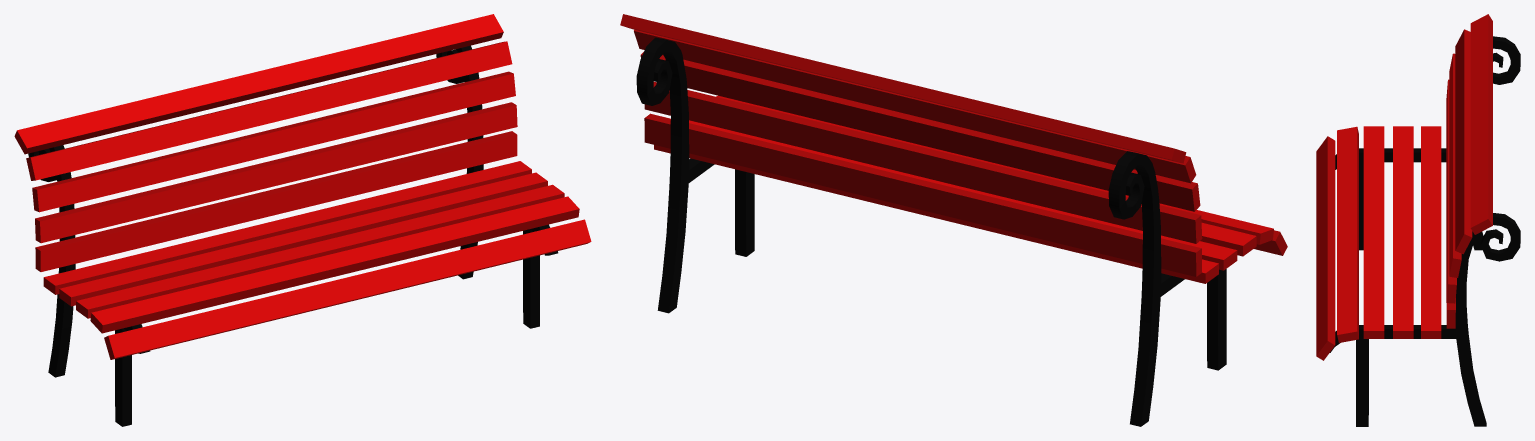
The model's file is WhiteWoodBench.glb.
3 renders of one model, left to right at view 1: azimuth 30°, elevation 25°; view 2: azimuth 150°, elevation 25°; view 3: azimuth 270°, elevation 25°, orthographic. The views are drawn at different scales.
Parts seen in each view (by area): view 1: WhiteWoodBench; view 2: WhiteWoodBench; view 3: WhiteWoodBench.
Boxes of the visible parts, x1=… form: WhiteWoodBench: x1=14, y1=14, x2=591, y2=426; WhiteWoodBench: x1=620, y1=14, x2=1287, y2=426; WhiteWoodBench: x1=1316, y1=14, x2=1520, y2=426.
Size of the model in its own units: 11.28 by 5.66 by 4.76.
